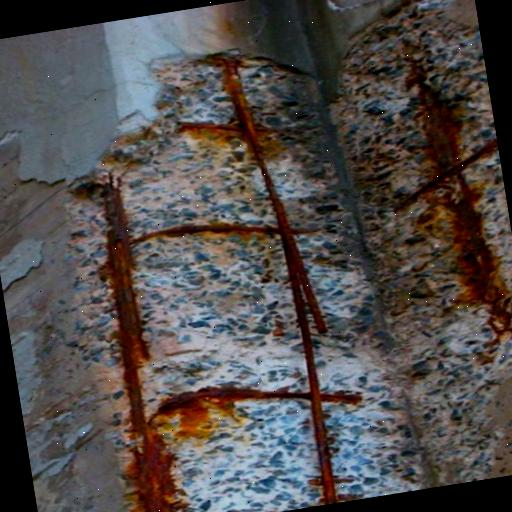spalling: (68, 0, 512, 512)
